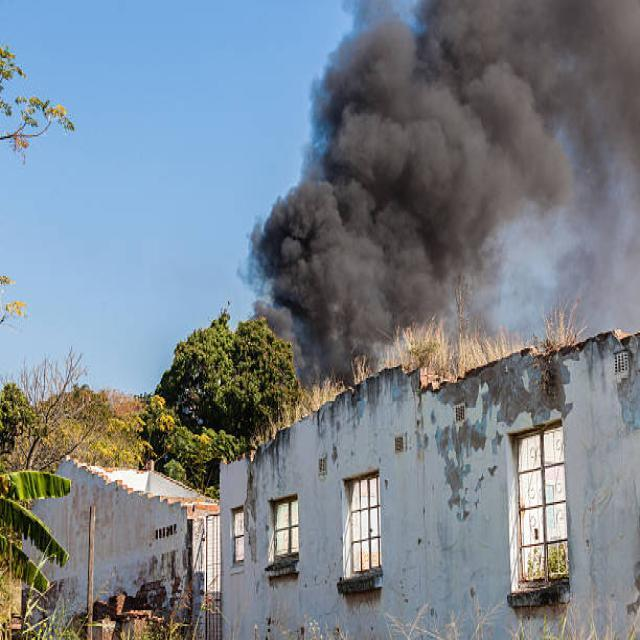Smoke: (245, 0, 640, 394)
